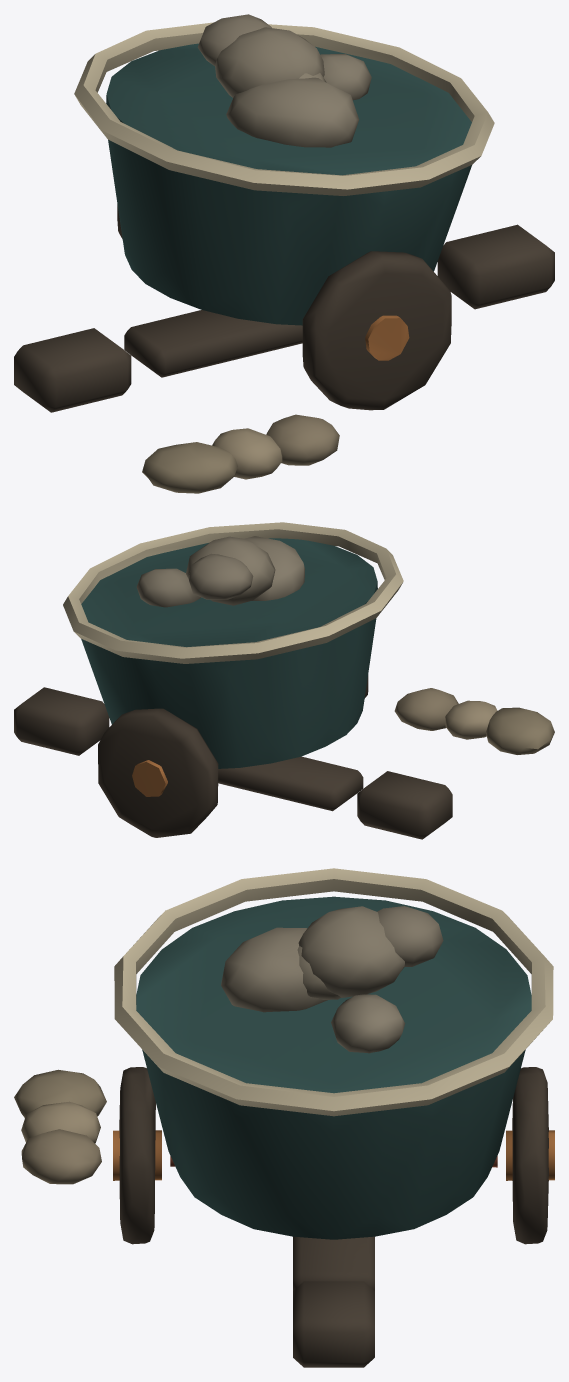
The model's file is ore_trolley_b_lod1.glb.
3 views of the same model, one above another, from view 1: azimuth 30°, elevation 25°; view 2: azimuth 150°, elevation 25°; view 3: azimuth 270°, elevation 25° (orthographic). The views are drawn at different scales.
Parts seen in each view (by area): view 1: Surface.001; view 2: Surface.001; view 3: Surface.001.
Boxes of the visible parts, x1=… form: Surface.001: x1=14, y1=14, x2=554, y2=493; Surface.001: x1=14, y1=522, x2=554, y2=839; Surface.001: x1=14, y1=868, x2=554, y2=1367.
Size of the model in its own units: 2.34 by 1.31 by 1.98.
